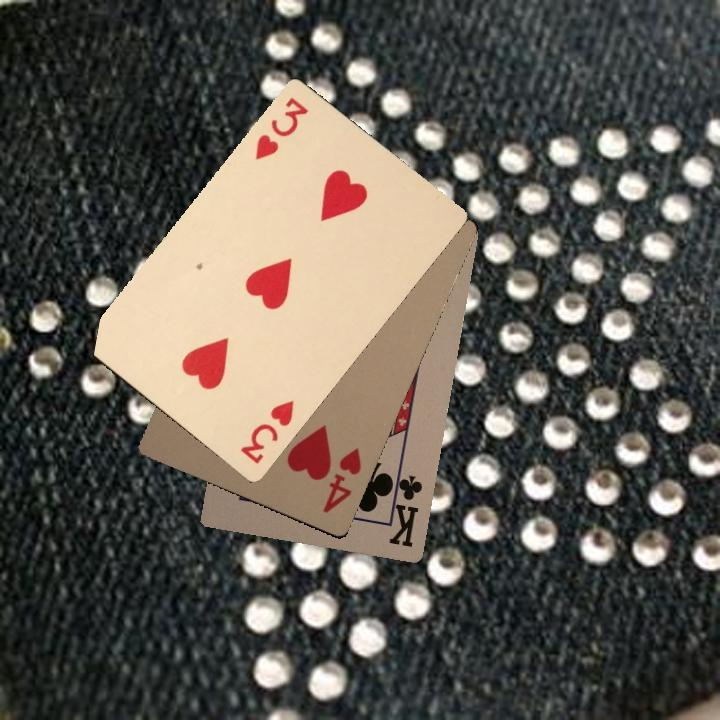3h: (236, 396, 297, 467), (251, 92, 311, 163)
4h: (318, 444, 364, 516)
Kc: (383, 465, 425, 550)
